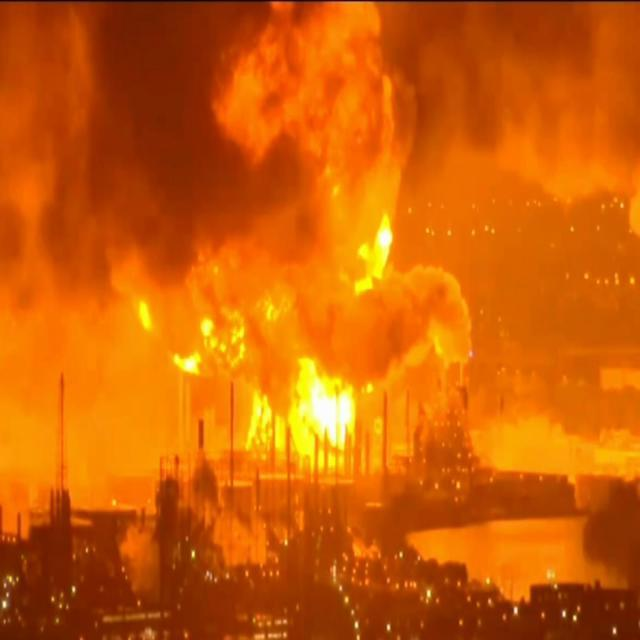fire: (150, 24, 452, 490)
